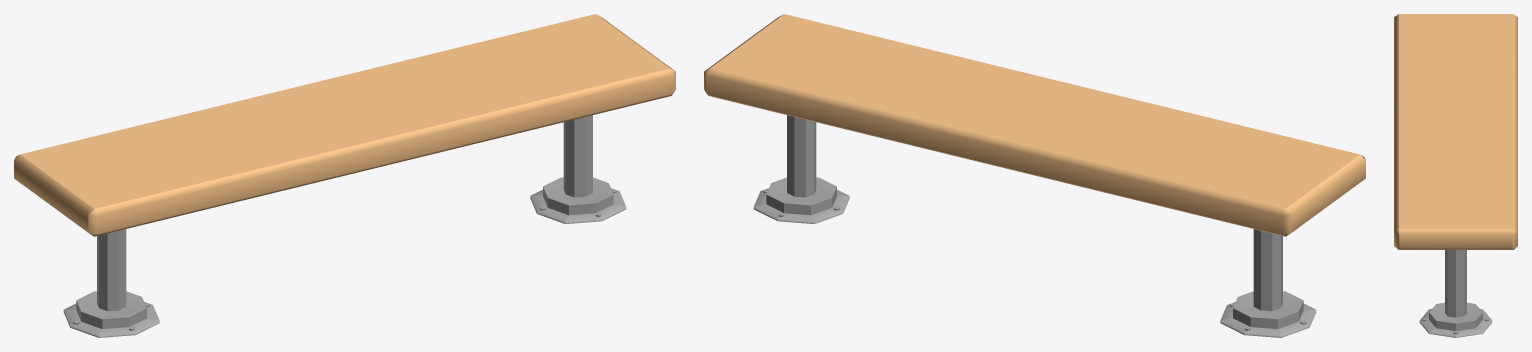
The model's file is Bench.fbx.
3 renders of one model, left to right at view 1: azimuth 30°, elevation 25°; view 2: azimuth 150°, elevation 25°; view 3: azimuth 270°, elevation 25°, orthographic. The views are drawn at different scales.
Visible parts, largest first — view 1: pCube28; view 2: pCube28; view 3: pCube28.
Part boxes in pixels (x1,y1,x2,y2): pCube28: [14, 14, 675, 337]; pCube28: [704, 14, 1365, 337]; pCube28: [1394, 14, 1517, 337].
Bounding box in the file's own units: 5.04 × 1.22 × 1.2.
